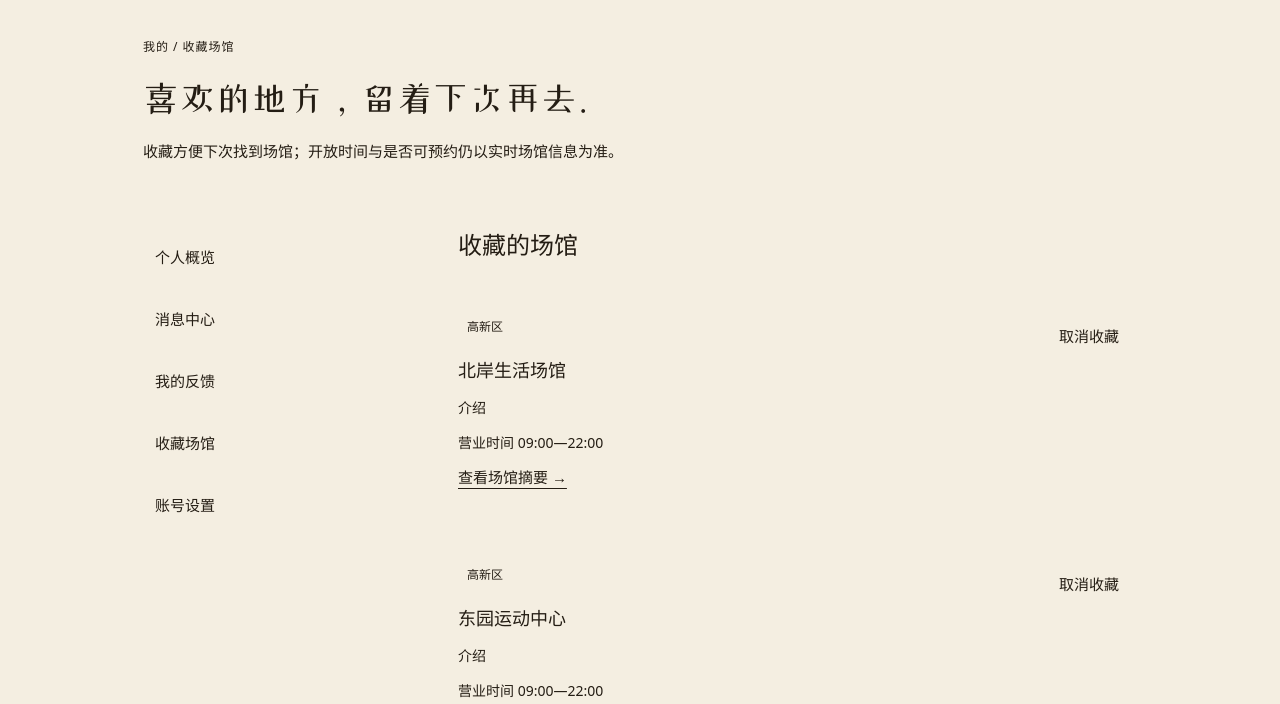
Test case: ShiguangPersonalView › removes a favorite with an undo affordance and restores on undo
The width and height of the screenshot is (1280, 704).
Click the button with test id "remove-favorite-1".
click(1089, 337)  # box [1041,313,1137,360]
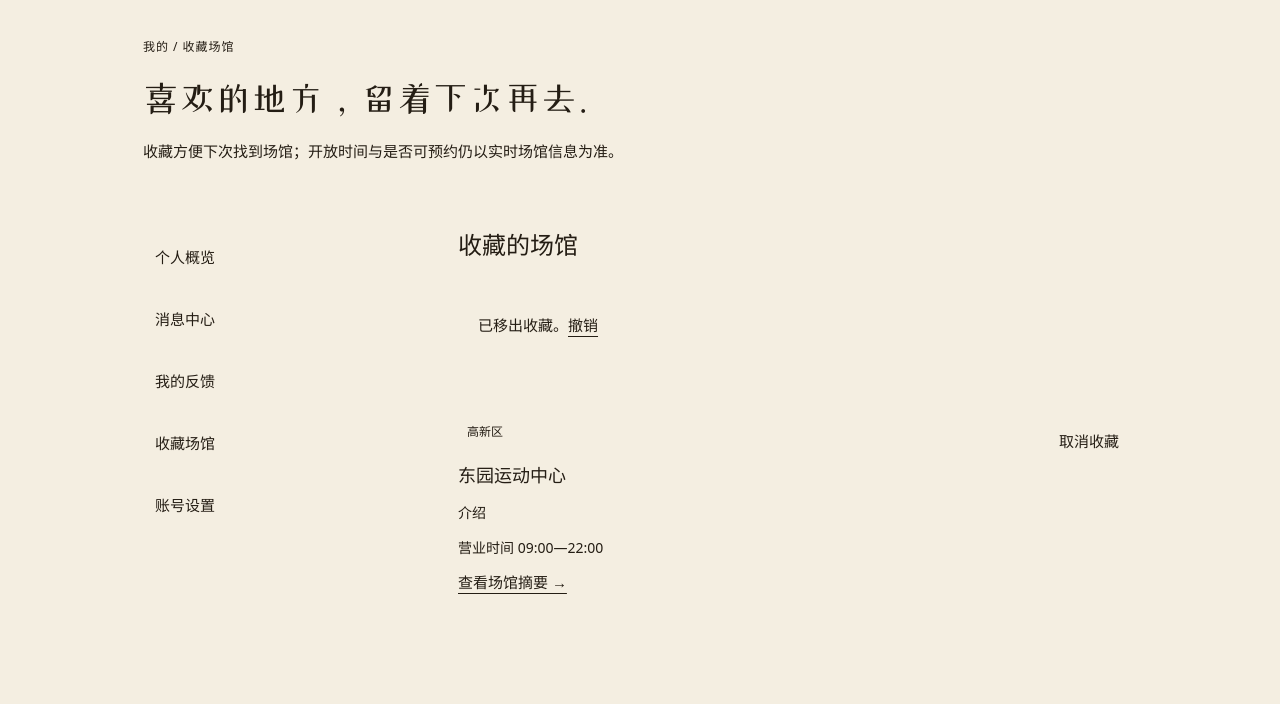
Expected: the text "已移出收藏。" is shown, [478,315,568,335]
Click the button with test id "undo-favorite".
click(583, 326)  # box [568,302,598,349]
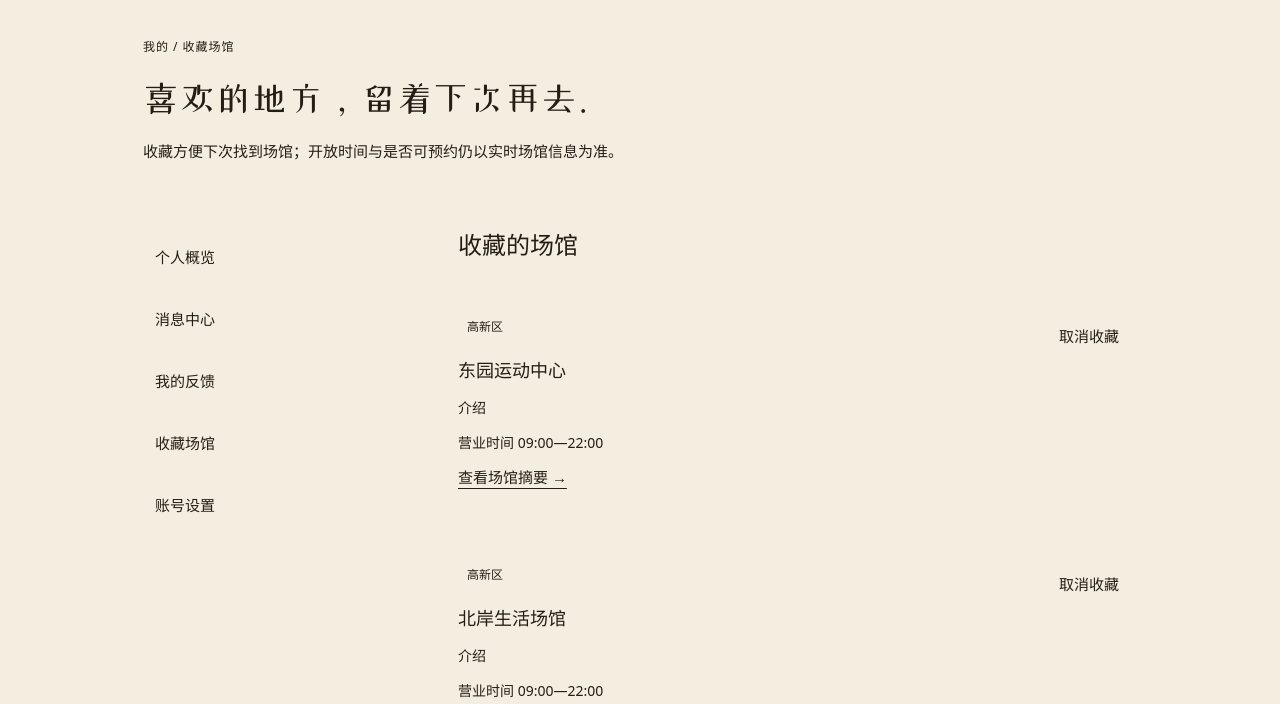
Expected: the text "北岸生活场馆" is shown, [458,606,566,630]
